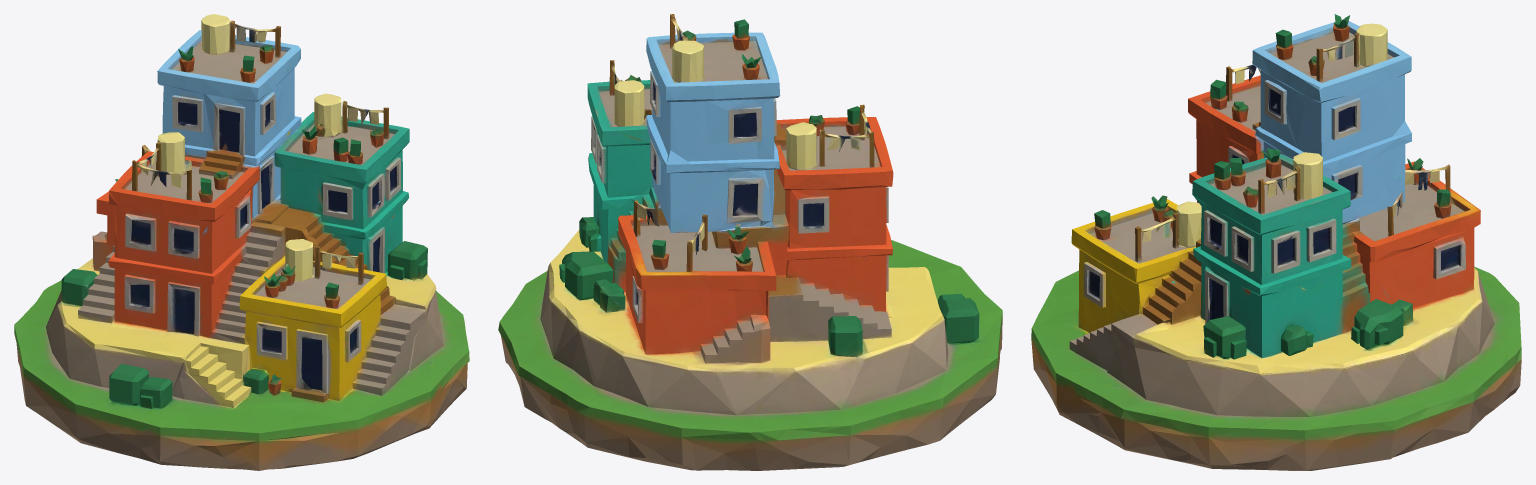
The model's file is rio-comunidade.glb.
3 views of the same model, side by side, from view 1: azimuth 30°, elevation 25°; view 2: azimuth 150°, elevation 25°; view 3: azimuth 270°, elevation 25° (orthographic). The views are drawn at different scales.
Visible parts, largest first — view 1: tripo_node_fc12e2b8-8d95-4268-a879-212df24ff3e0; view 2: tripo_node_fc12e2b8-8d95-4268-a879-212df24ff3e0; view 3: tripo_node_fc12e2b8-8d95-4268-a879-212df24ff3e0.
Part boxes in pixels (box(x1,y1,x2,y2)): tripo_node_fc12e2b8-8d95-4268-a879-212df24ff3e0: box(14, 14, 469, 470); tripo_node_fc12e2b8-8d95-4268-a879-212df24ff3e0: box(498, 14, 1002, 470); tripo_node_fc12e2b8-8d95-4268-a879-212df24ff3e0: box(1031, 14, 1521, 470).
Bounding box in the file's own units: 0.9966 × 0.7902 × 1.
Materials: 1 (1 with a texture image).
